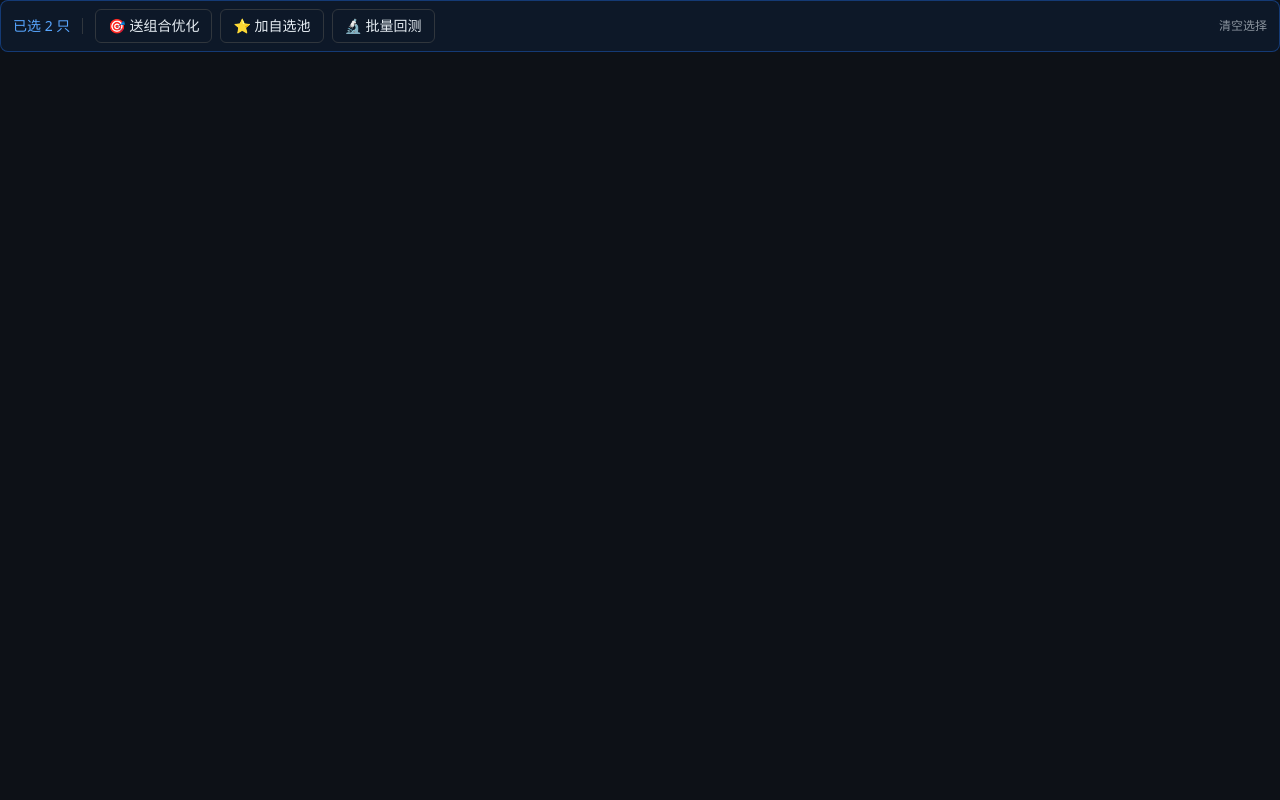
Test: SelectionActions › opens the batch backtest modal
Click the button "🔬 批量回测" at (383, 26), box [332,9,435,43]
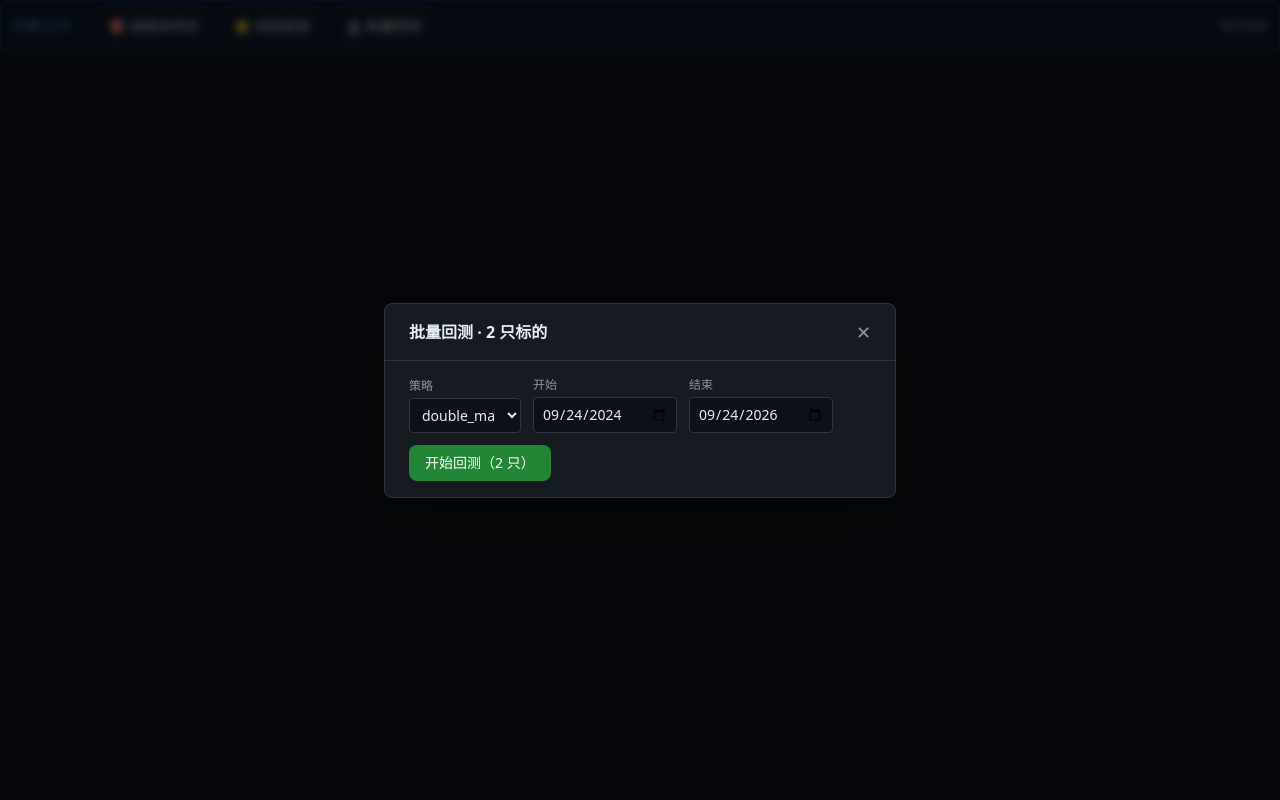
Expected: the dialog is shown, [384,302,896,498]
Expected: the heading "批量回测 · 2 只标的" is shown, [409,320,547,344]
